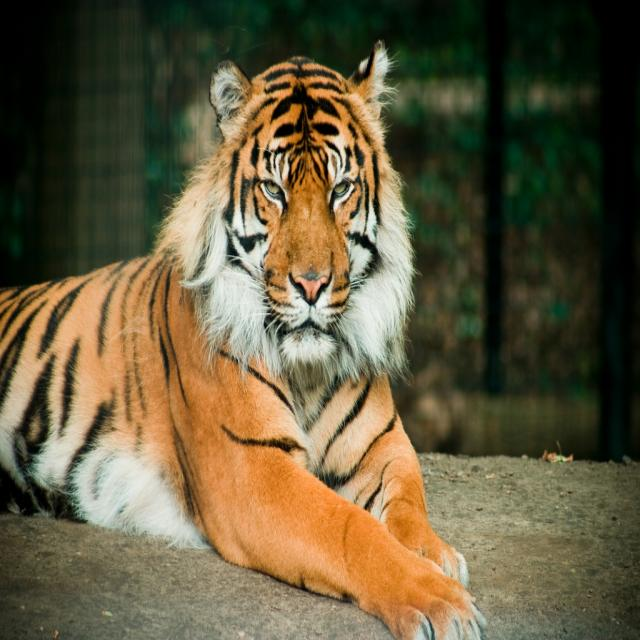Tiger: (0, 33, 486, 639)
